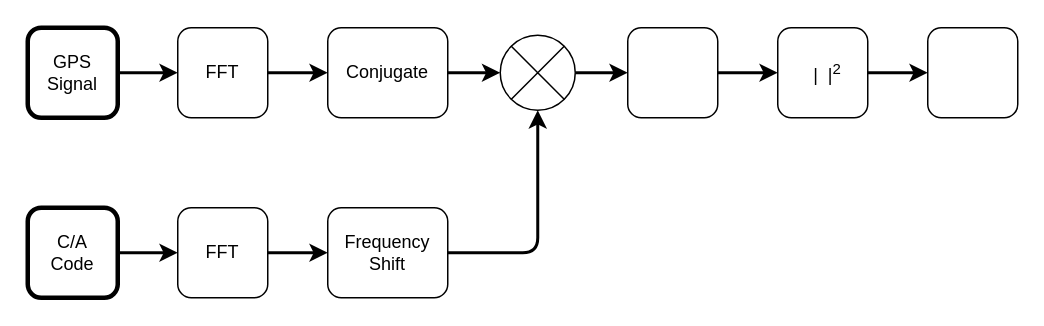
Some shapes in this 1044 by 326 pixel diagram are drawn without their labels. The shapes that lost their labels are listed below. From the top down, each one's centre as x and y in pixels, then its label:
At [672,72]: "IFFT".
At [972,72]: "Max".
